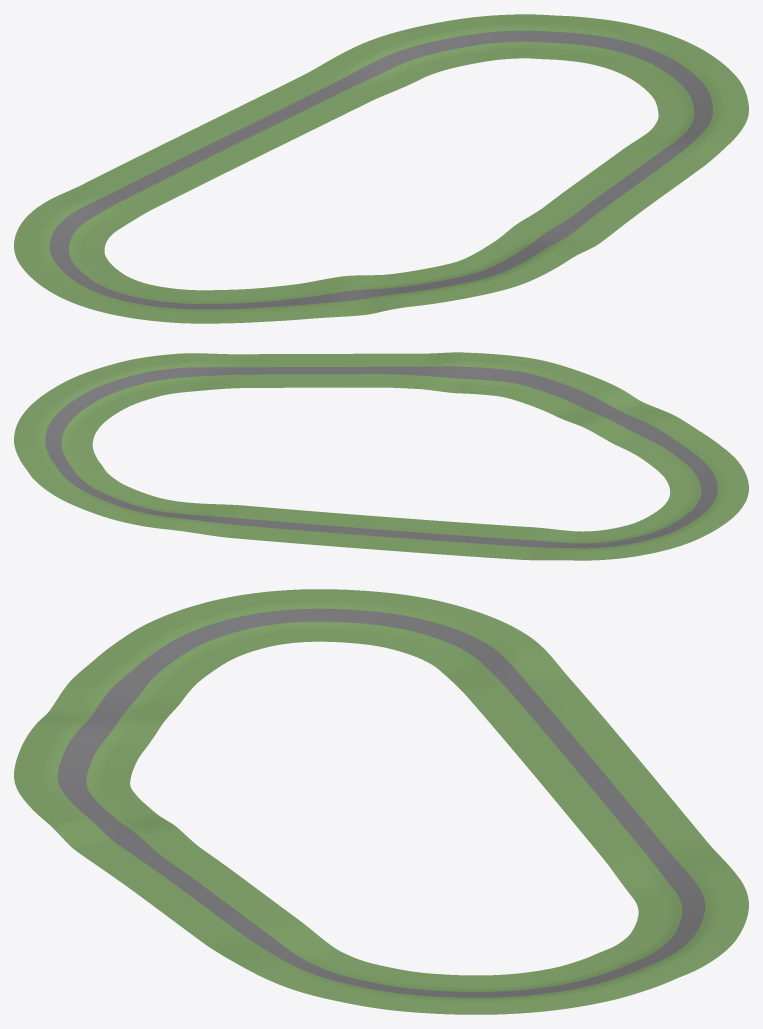
Rendered from road_mesh.glb.
3 renders of one model, top to bottom at view 1: azimuth 30°, elevation 25°; view 2: azimuth 150°, elevation 25°; view 3: azimuth 270°, elevation 25°, orthographic. The views are drawn at different scales.
Parts seen in each view (by area): view 1: road_04, road_05, road_03, road_01, road_07, road_06, road_02, road_00, road_09, road_08; view 2: road_00, road_09, road_03, road_02, road_01, road_08, road_06, road_04, road_05, road_07; view 3: road_08, road_07, road_09, road_06, road_01, road_00, road_05, road_02, road_04, road_03.
Part boxes in pixels (x1,y1,x2,y2): road_04: (392,14,622,71); road_05: (247,33,439,128); road_03: (583,22,748,110); road_01: (490,171,670,260); road_07: (14,165,189,249); road_06: (120,103,315,190); road_02: (593,102,748,189); road_00: (353,244,567,313); road_09: (159,275,373,323); road_08: (14,243,181,321); road_00: (464,352,637,424); road_09: (578,399,741,480); road_03: (14,366,150,447); road_02: (107,353,294,398); road_01: (294,352,470,393); road_08: (624,467,748,551); road_06: (301,511,482,556); road_04: (14,443,158,521); road_05: (123,498,315,543); road_07: (469,524,660,560); road_08: (164,589,453,654); road_07: (396,605,593,723); road_09: (47,616,241,729); road_06: (490,706,674,818); road_01: (46,808,261,914); road_00: (14,713,158,821); road_05: (570,802,748,910); road_02: (166,892,382,1000); road_04: (557,901,748,998); road_03: (335,966,617,1014).
Bounding box in the file's own units: 707 × 16.65 × 504.
